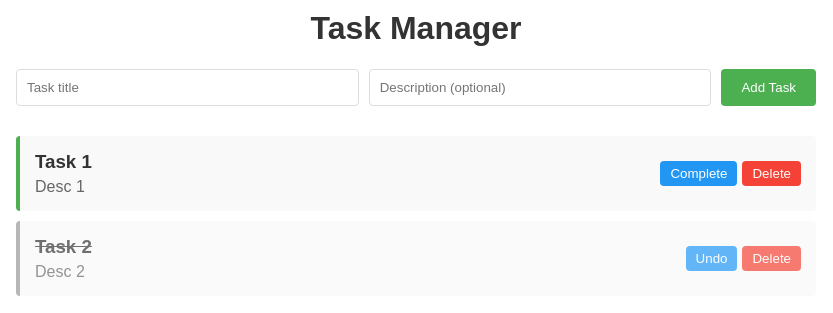
Test: App › toggles task completion
Expected: the number of buttons "Undo" is 1, [686,246,738,271]
Note: Click the "Complete" button for Task 1
Click the button "Complete": (699, 173) [660,161,737,186]
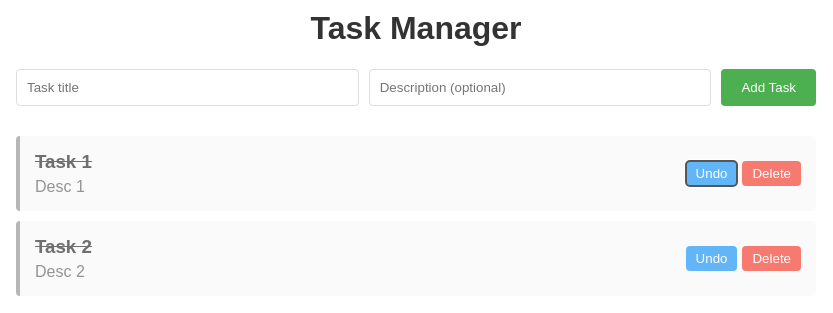
Expected: the number of buttons "Undo" is 2, [686,161,738,186]; [686,246,738,271]
Now the button "Complete" is gone
